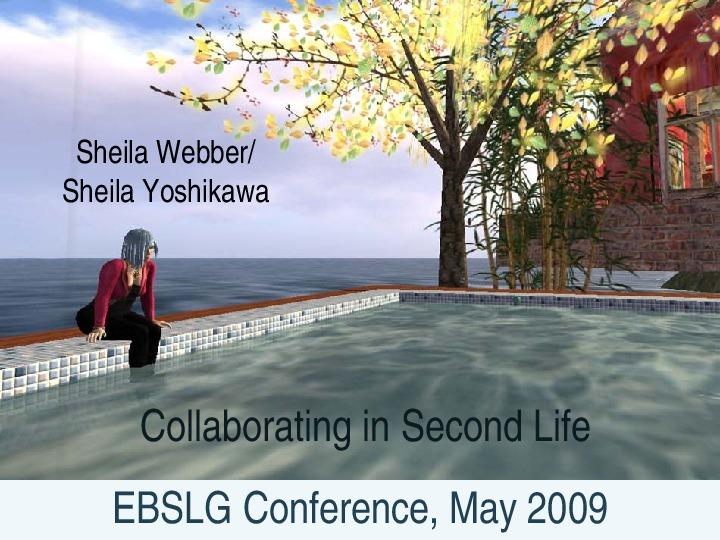subtitle: (99, 387, 629, 526)
title: (54, 121, 303, 217)
